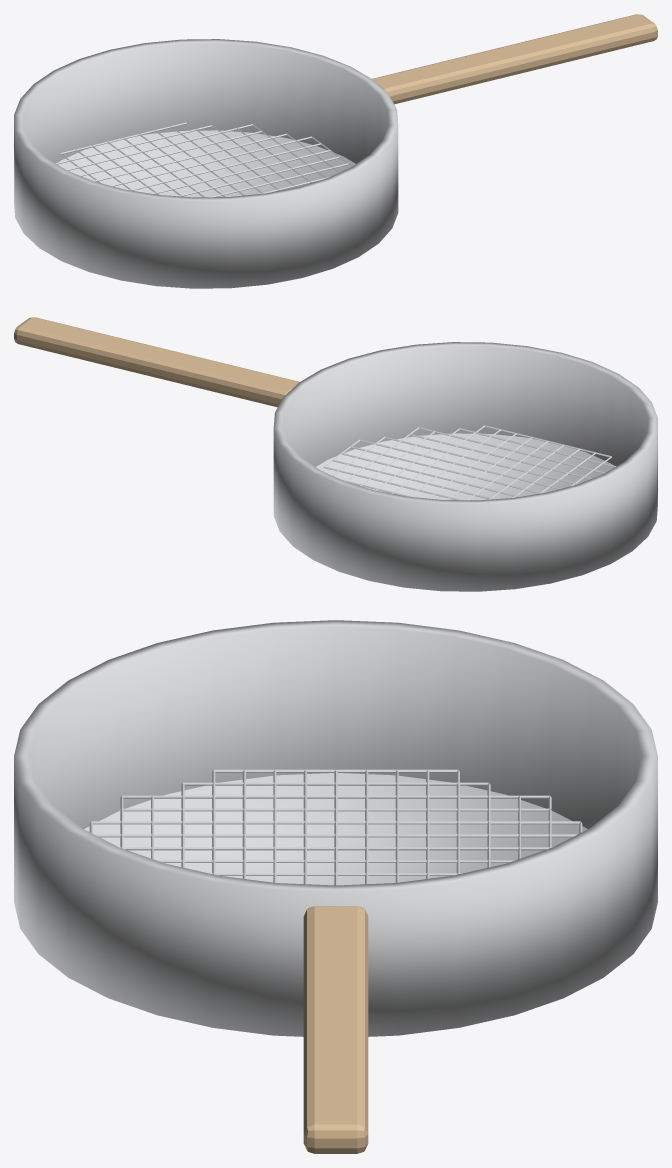
The model's file is sieve.glb.
3 renders of one model, top to bottom at view 1: azimuth 30°, elevation 25°; view 2: azimuth 150°, elevation 25°; view 3: azimuth 270°, elevation 25°, orthographic. The views are drawn at different scales.
Parts seen in each view (by area): view 1: sieve_ring, sieve_handle, sieve_mesh; view 2: sieve_ring, sieve_handle, sieve_mesh; view 3: sieve_ring, sieve_mesh, sieve_handle.
Boxes of the visible parts, x1,y1,x2,y2 form: sieve_ring: (14, 39, 398, 288); sieve_handle: (372, 14, 657, 104); sieve_mesh: (55, 122, 352, 197); sieve_ring: (273, 342, 657, 591); sieve_handle: (14, 317, 299, 407); sieve_mesh: (319, 425, 616, 500); sieve_ring: (14, 620, 657, 1036); sieve_mesh: (89, 769, 582, 885); sieve_handle: (303, 906, 368, 1153).
Size of the model in its own units: 0.22 by 0.03 by 0.12.
